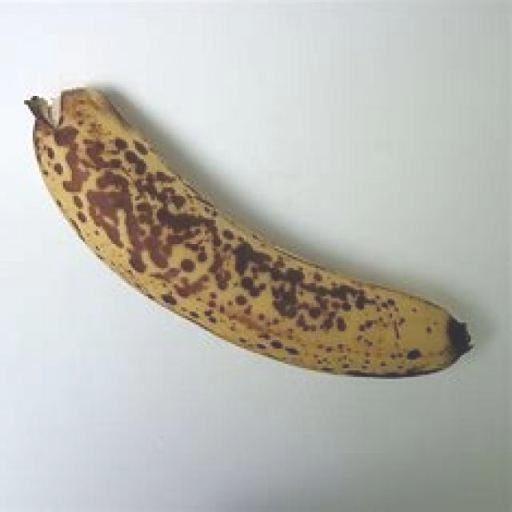fruit: (440, 166, 500, 512)
